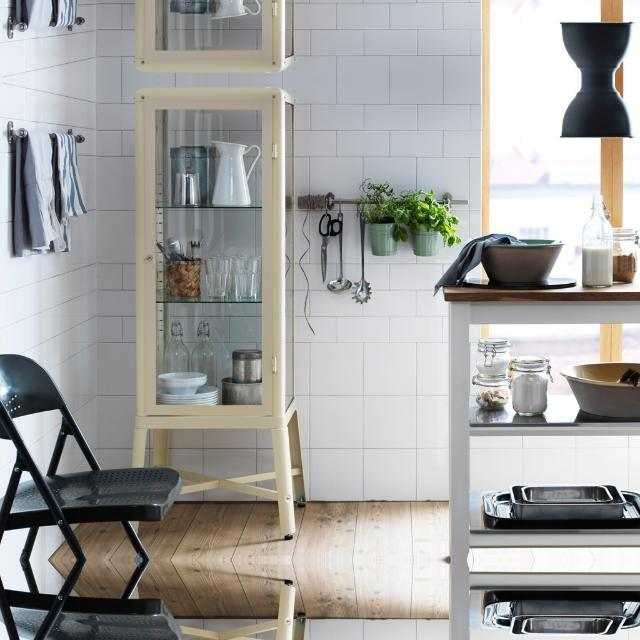obstacle: (126, 82, 314, 534), (429, 228, 640, 557), (0, 351, 184, 560), (429, 562, 640, 640), (0, 559, 184, 640), (125, 0, 314, 77), (125, 586, 314, 640)
